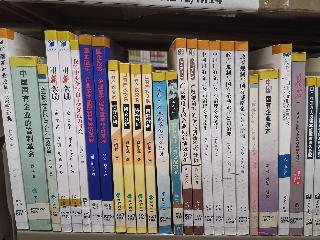book-spine: (11, 55, 52, 232), (0, 27, 30, 231), (45, 29, 72, 232), (66, 40, 94, 233), (78, 34, 104, 233), (58, 29, 83, 232), (91, 35, 116, 233), (35, 63, 62, 233), (174, 38, 195, 236), (287, 51, 307, 238), (196, 40, 215, 236), (187, 39, 205, 236), (219, 41, 237, 236), (258, 70, 279, 237), (107, 60, 127, 234), (165, 68, 185, 237), (152, 72, 172, 234), (234, 40, 250, 235), (208, 41, 224, 235), (118, 63, 136, 235), (277, 45, 292, 236), (131, 64, 147, 232), (302, 76, 317, 236), (143, 64, 157, 233), (248, 74, 259, 236)
